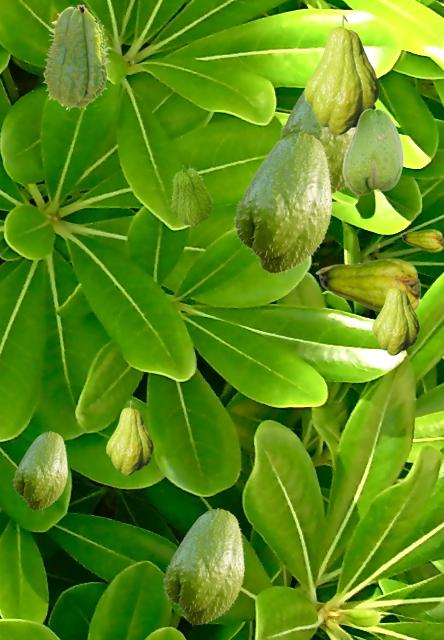sayote: (232, 132, 332, 274), (162, 508, 244, 625), (304, 15, 378, 134), (276, 90, 354, 193), (42, 4, 109, 110), (315, 258, 419, 312), (342, 108, 402, 194), (12, 431, 67, 510), (372, 280, 418, 354), (106, 400, 152, 474), (170, 164, 212, 225), (400, 229, 442, 251)
